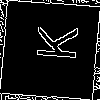K: (25, 25, 79, 61)
